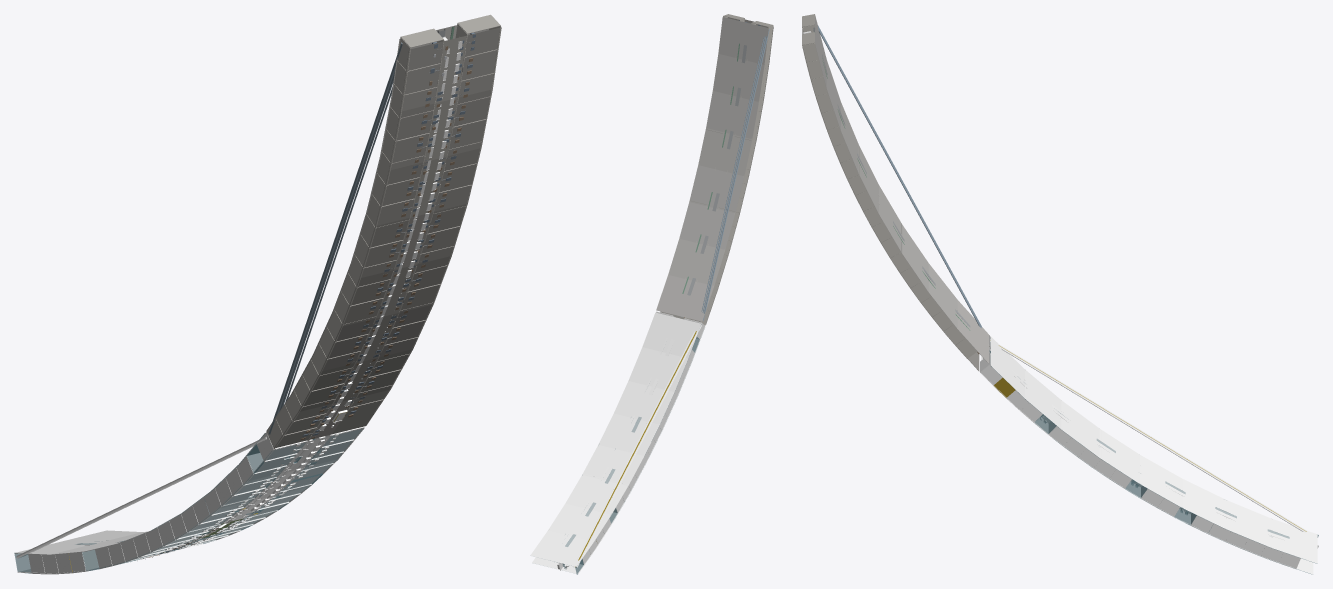
Rendered from xuanshu_interior_C40.glb.
The picture shows the model from 3 angles, left to right: view 1: azimuth 30°, elevation 25°; view 2: azimuth 150°, elevation 25°; view 3: azimuth 270°, elevation 25°; orthographic projection. The views are drawn at different scales.
Visible parts, largest first — view 1: UNIT-HAB-007_S0; view 2: UNIT-HAB-007_S0; view 3: UNIT-HAB-007_S0.
Boxes of the visible parts, <box> form: UNIT-HAB-007_S0: <box>14,14,501,574</box>; UNIT-HAB-007_S0: <box>530,14,773,574</box>; UNIT-HAB-007_S0: <box>802,14,1318,574</box>.
Bounding box in the file's own units: 17.31 × 146 × 128.
